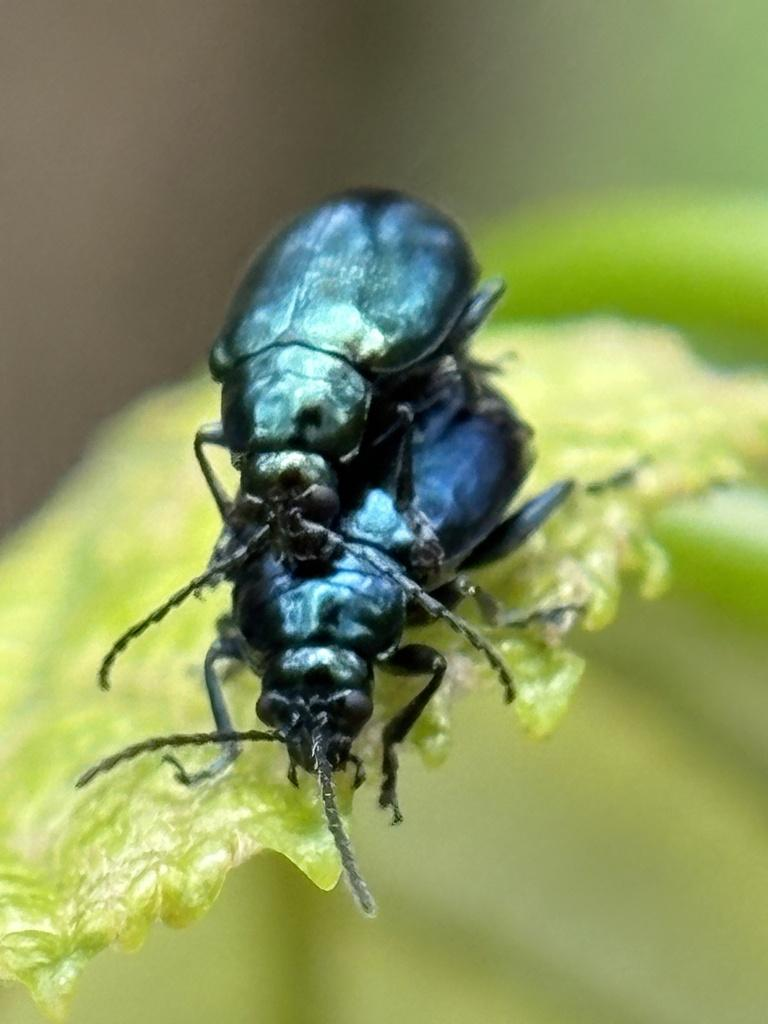flea_beetle: (38, 350, 631, 935), (52, 101, 570, 730)
